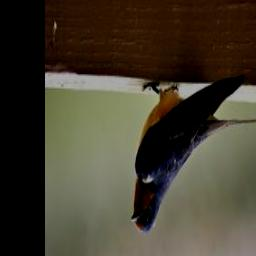Swallow: (130, 74, 256, 239)
